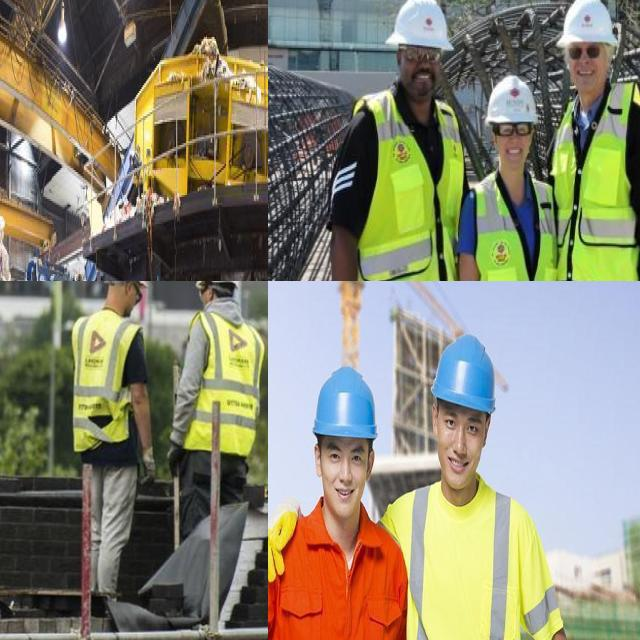No_Ear-Protection: (364, 447, 378, 485), (312, 441, 324, 477), (482, 411, 493, 450), (430, 402, 440, 436)
No_Glasses: (442, 404, 483, 449), (323, 441, 367, 472)
face_nomask: (430, 405, 488, 496), (317, 442, 373, 521), (394, 45, 442, 112), (564, 38, 606, 100), (493, 120, 531, 166)
glasses: (398, 43, 446, 67), (564, 38, 604, 62), (494, 118, 532, 138)
hand_glove: (268, 498, 305, 594)
head_helmet: (430, 332, 498, 413), (313, 364, 380, 439), (382, 0, 457, 54), (551, 0, 624, 45), (480, 74, 543, 124), (195, 281, 243, 290)
person: (390, 329, 570, 640), (268, 372, 404, 640), (334, 0, 455, 281), (74, 281, 156, 616), (550, 0, 640, 281), (172, 281, 264, 544), (459, 73, 562, 281)
vest: (389, 490, 559, 640), (355, 89, 466, 281), (546, 90, 640, 281), (463, 169, 564, 281), (188, 308, 262, 454), (70, 308, 144, 449)
